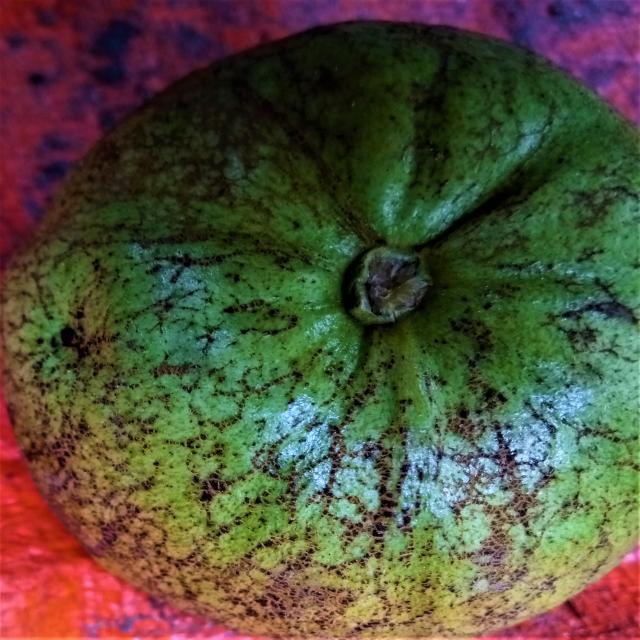Scab: (3, 22, 637, 638)
